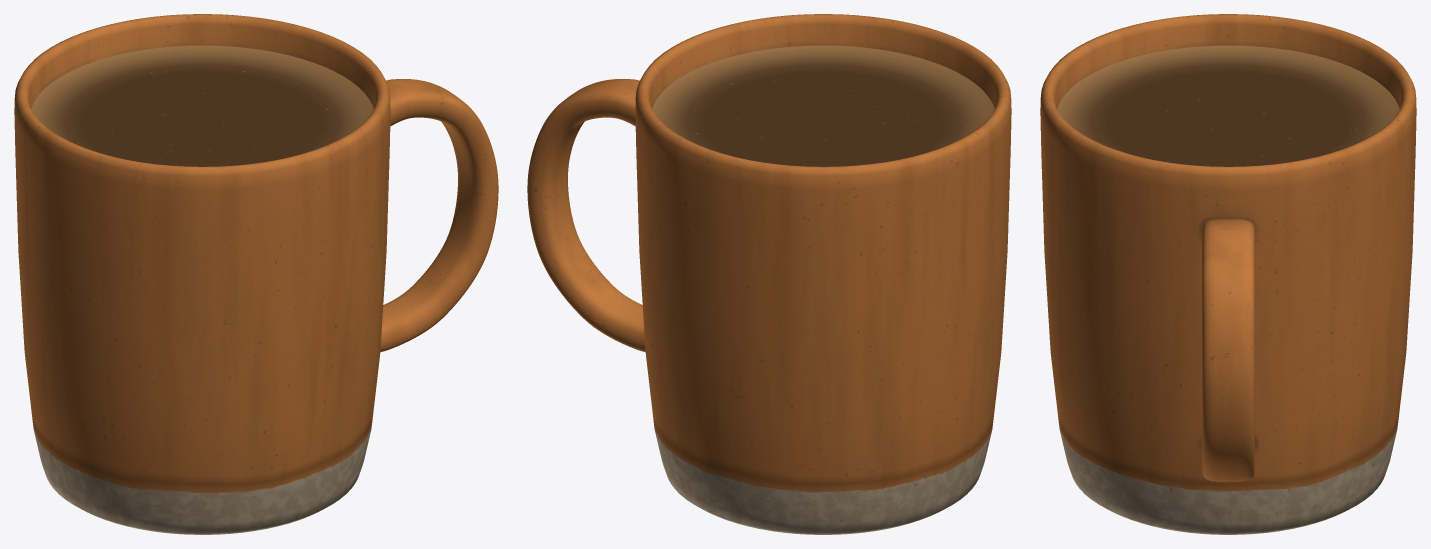
File: corner_mug.glb
The picture shows the model from 3 angles, left to right: view 1: azimuth 30°, elevation 25°; view 2: azimuth 150°, elevation 25°; view 3: azimuth 270°, elevation 25°; orthographic projection.
Parts seen in each view (by area): view 1: Mug, Tea; view 2: Mug, Tea; view 3: Mug, Tea.
Boxes of the visible parts, x1,y1,x2,y2 form: Mug: (14,14,498,534); Tea: (31,45,373,166); Mug: (527,14,1011,534); Tea: (652,45,994,166); Mug: (1040,14,1416,534); Tea: (1057,45,1399,166).
Bounding box in the file's own units: 0.1177 × 0.0951 × 0.0852.
Materials: 2 (2 with a texture image).
